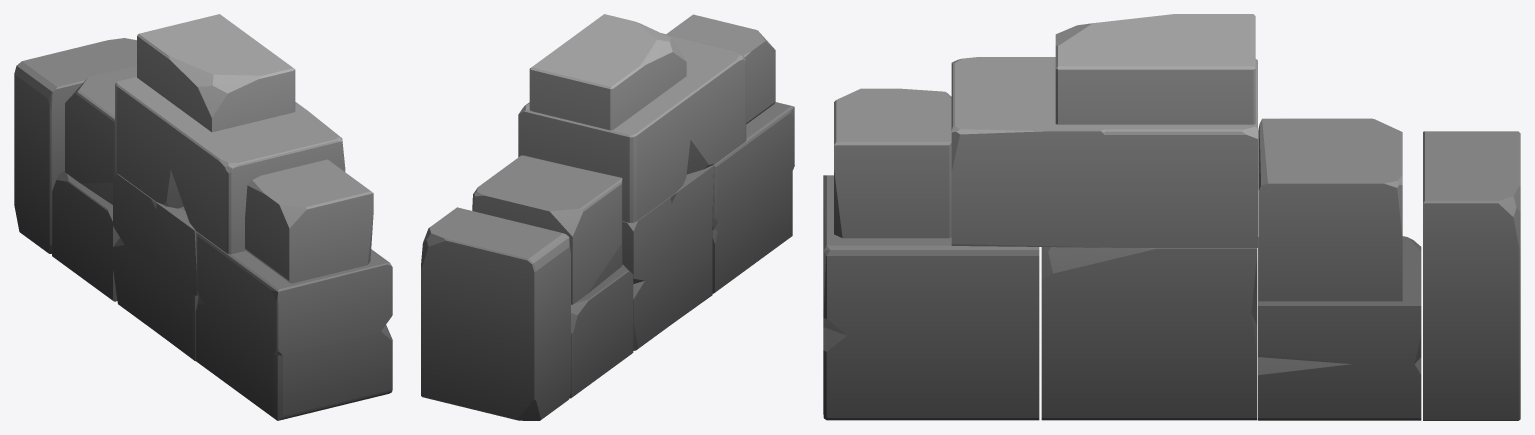
The model's file is muro.fbx.
3 views of the same model, side by side, from view 1: azimuth 30°, elevation 25°; view 2: azimuth 150°, elevation 25°; view 3: azimuth 270°, elevation 25° (orthographic). The views are drawn at different scales.
Parts seen in each view (by area): view 1: muro; view 2: muro; view 3: muro.
Part boxes in pixels (x1,y1,x2,y2): muro: (14, 14, 392, 420); muro: (421, 14, 794, 420); muro: (823, 14, 1520, 420).
Bounding box in the file's own units: 31.95 × 69.02 × 125.
